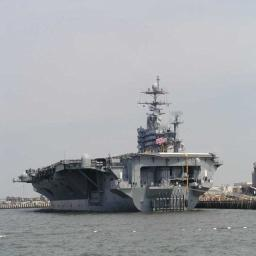Portanaves: (14, 76, 224, 214)
